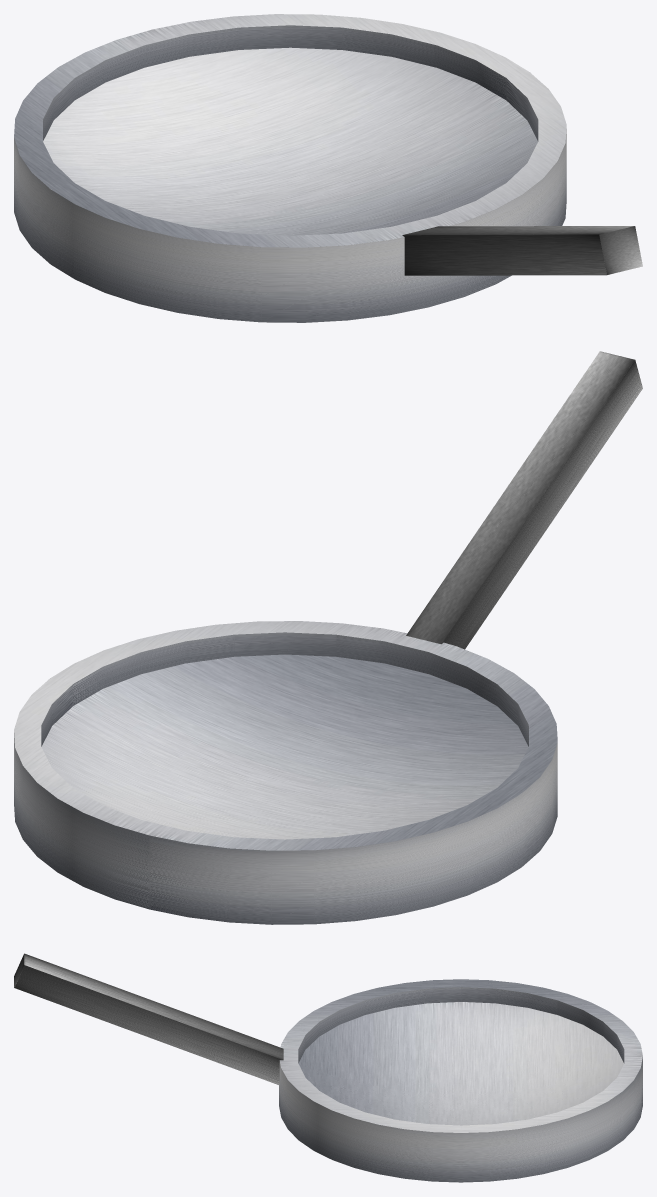
The model's file is pan.obj.
3 views of the same model, one above another, from view 1: azimuth 30°, elevation 25°; view 2: azimuth 150°, elevation 25°; view 3: azimuth 270°, elevation 25° (orthographic). The views are drawn at different scales.
Visible parts, largest first — view 1: OilTank001, Box001; view 2: OilTank001, Box001; view 3: OilTank001, Box001.
Part boxes in pixels (bbox=[...]): OilTank001: bbox=[14, 14, 566, 322]; Box001: bbox=[402, 226, 642, 275]; OilTank001: bbox=[14, 621, 557, 924]; Box001: bbox=[406, 351, 642, 649]; OilTank001: bbox=[279, 979, 642, 1182]; Box001: bbox=[14, 953, 283, 1085].
Size of the model in its own units: 40 by 17.56 by 69.11.
